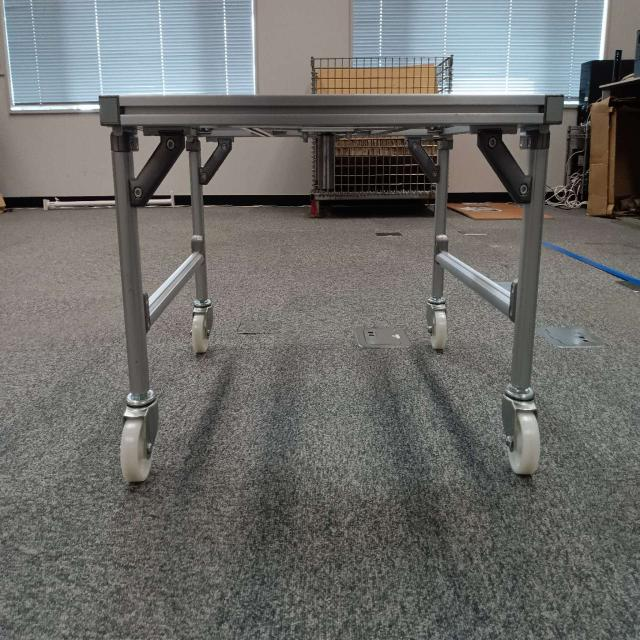door: (106, 87, 548, 215)
